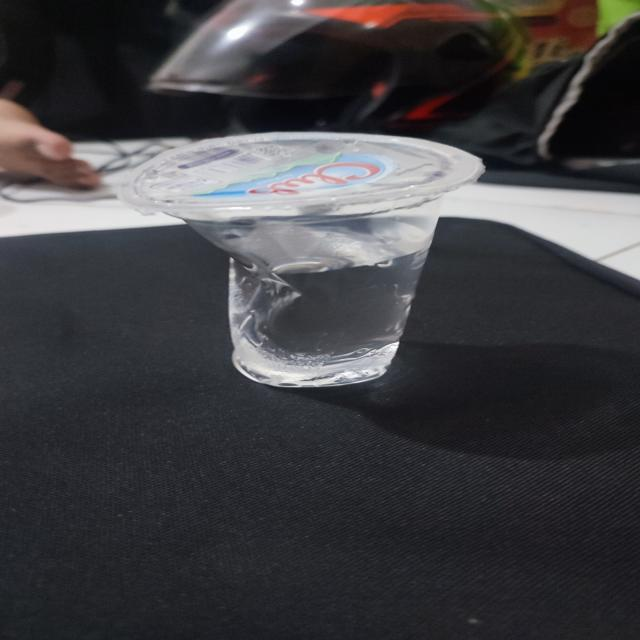air-gelas-rusak: (95, 128, 501, 405)
